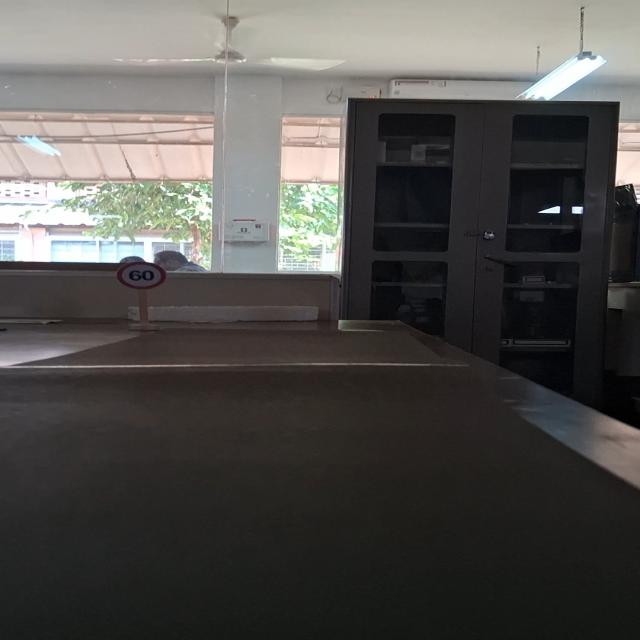Speed60: (114, 260, 168, 290)
